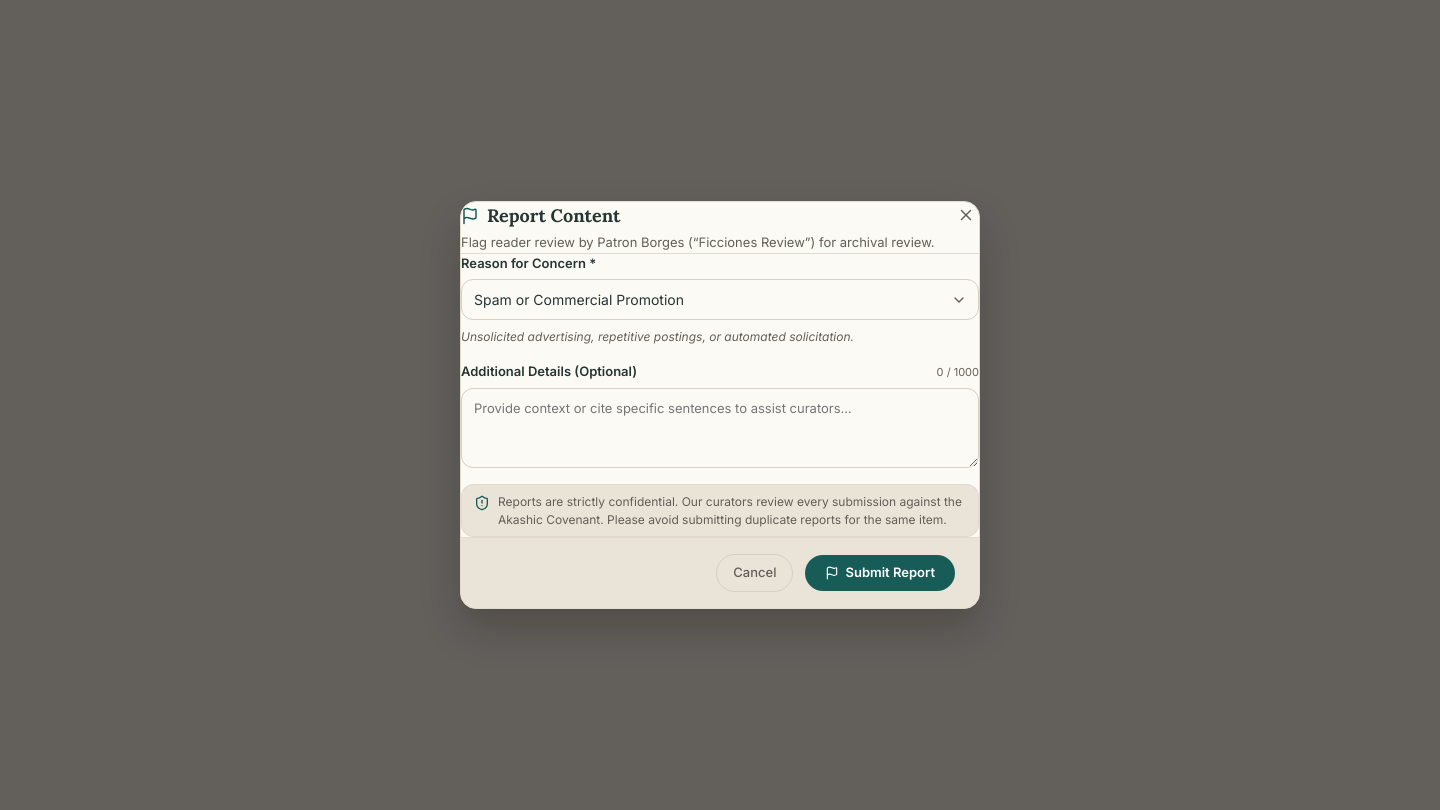
Test case: ReportContentModal Component › updates selected reason and displays its description
Step 1. Select "Unmarked Spoilers" in the dropdown labelled "Reason for Concern *" → (720, 300), box left=461, top=279, right=979, bottom=320
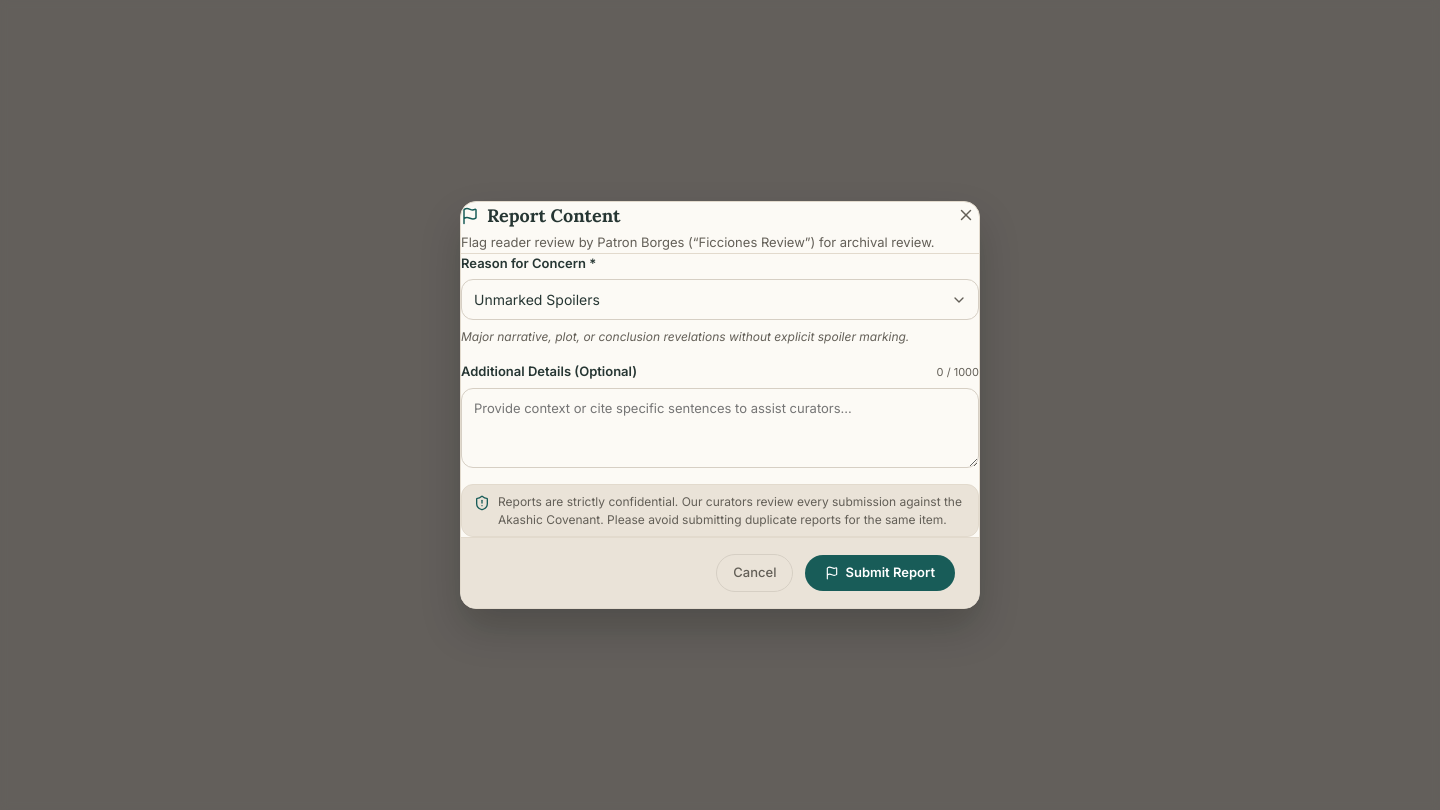
Now the text "Major narrative, plot, or conclusion revelations" is shown, box left=461, top=329, right=909, bottom=344
